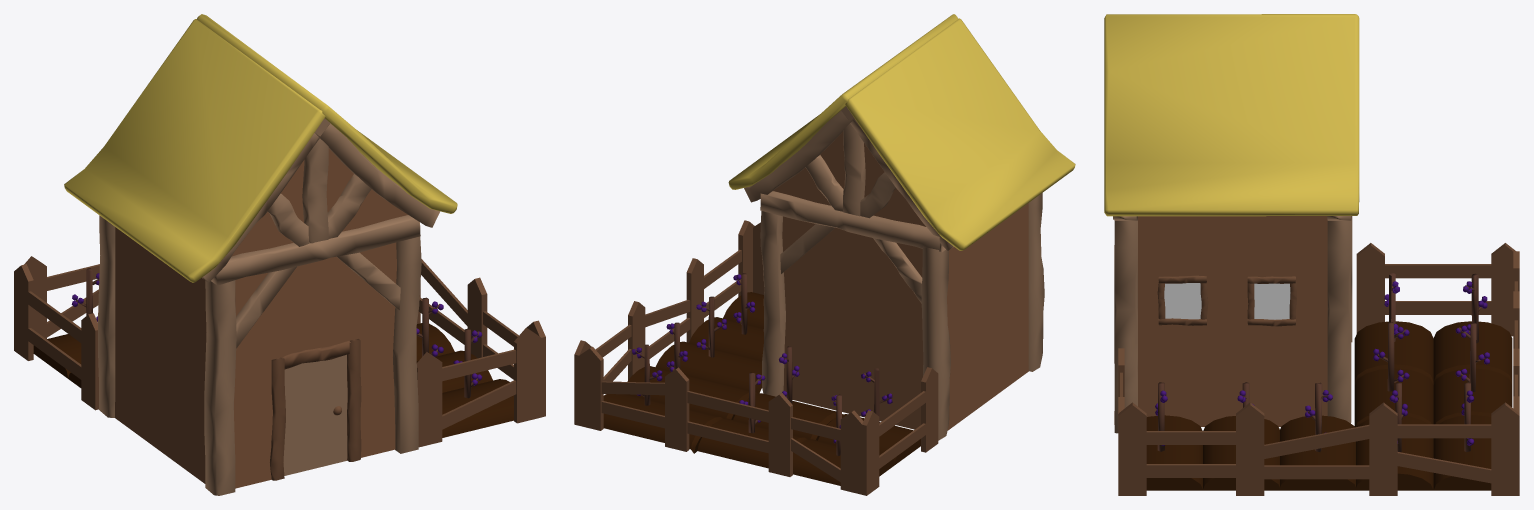
Rendered from WineFarm.fbx.
The picture shows the model from 3 angles, left to right: view 1: azimuth 30°, elevation 25°; view 2: azimuth 150°, elevation 25°; view 3: azimuth 270°, elevation 25°; orthographic projection. The views are drawn at different scales.
Parts seen in each view (by area): view 1: Roof2, Wall_front, Wall_left, Door, HousePillar, HousePillar2, HousePillar5, Roof, HousePillar.001, HousePillar2.003, Cube.001, HousePillar2.005 (+27 smaller); view 2: Roof2, Wall_back, Wall_left, Cylinder.004, HousePillar.001, Cylinder.003, HousePillar2.008, HousePillar5.001, Roof, Cylinder.002, HousePillar, HousePillar2.009 (+30 smaller); view 3: Roof, Wall_right, Cylinder.004, Cylinder.003, HousePillar2.008, HousePillar2, Cylinder.002, Cube.004, Cube.005, Cube.003, Cube.002, Cylinder (+20 smaller).
Boxes of the visible parts, box(x1,y1,x2,y2) form: Roof2: box(64, 19, 325, 282); Wall_front: box(231, 148, 407, 488); Wall_left: box(115, 227, 206, 483); Door: box(283, 354, 347, 475); HousePillar: box(204, 280, 236, 495); HousePillar2: box(393, 236, 421, 453); HousePillar5: box(211, 215, 420, 285); Roof: box(197, 14, 457, 213); HousePillar.001: box(98, 215, 115, 417); HousePillar2.003: box(316, 123, 439, 227); Cube.001: box(514, 327, 541, 423); HousePillar2.005: box(302, 138, 328, 243); Roof2: box(845, 18, 1075, 250); Wall_back: box(773, 131, 925, 429); Wall_left: box(947, 203, 1028, 430); Cylinder.004: box(603, 394, 894, 485); HousePillar.001: box(921, 246, 950, 440); Cylinder.003: box(627, 366, 920, 464); HousePillar2.008: box(760, 211, 785, 396); HousePillar5.001: box(760, 191, 945, 252); Roof: box(728, 14, 958, 189); Cylinder.002: box(655, 341, 761, 393); HousePillar: box(1028, 193, 1044, 371); HousePillar2.009: box(744, 111, 853, 202); Roof: box(1104, 14, 1359, 216); Wall_right: box(1138, 216, 1327, 426); Cylinder.004: box(1433, 321, 1512, 490); Cylinder.003: box(1354, 321, 1433, 490); HousePillar2.008: box(1327, 220, 1351, 423); HousePillar2: box(1114, 220, 1137, 433); Cylinder.002: box(1280, 415, 1355, 490); Cube.004: box(1369, 402, 1397, 495); Cube.005: box(1491, 402, 1519, 495); Cube.003: box(1236, 402, 1264, 495); Cube.002: box(1118, 402, 1146, 495); Cylinder: box(1146, 415, 1203, 490).
Size of the model in its own units: 312 by 307 by 308.
